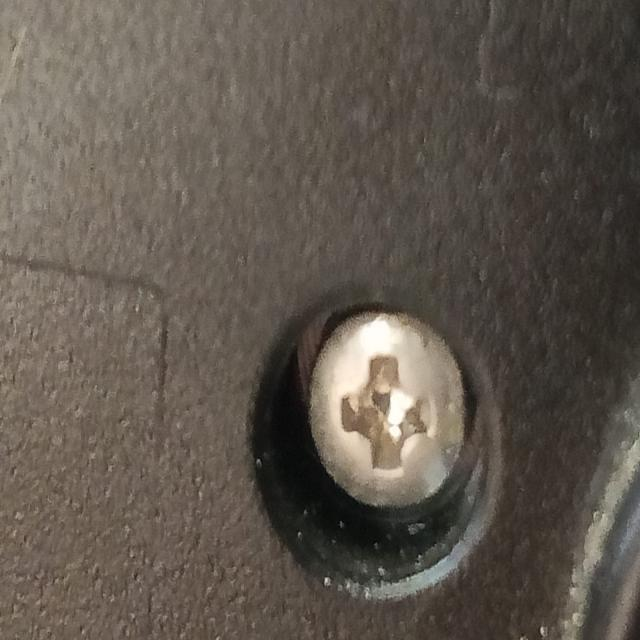phillips: (306, 308, 470, 515)
